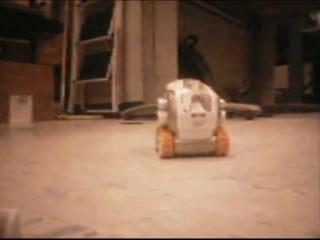cozmo: (151, 78, 232, 159)
